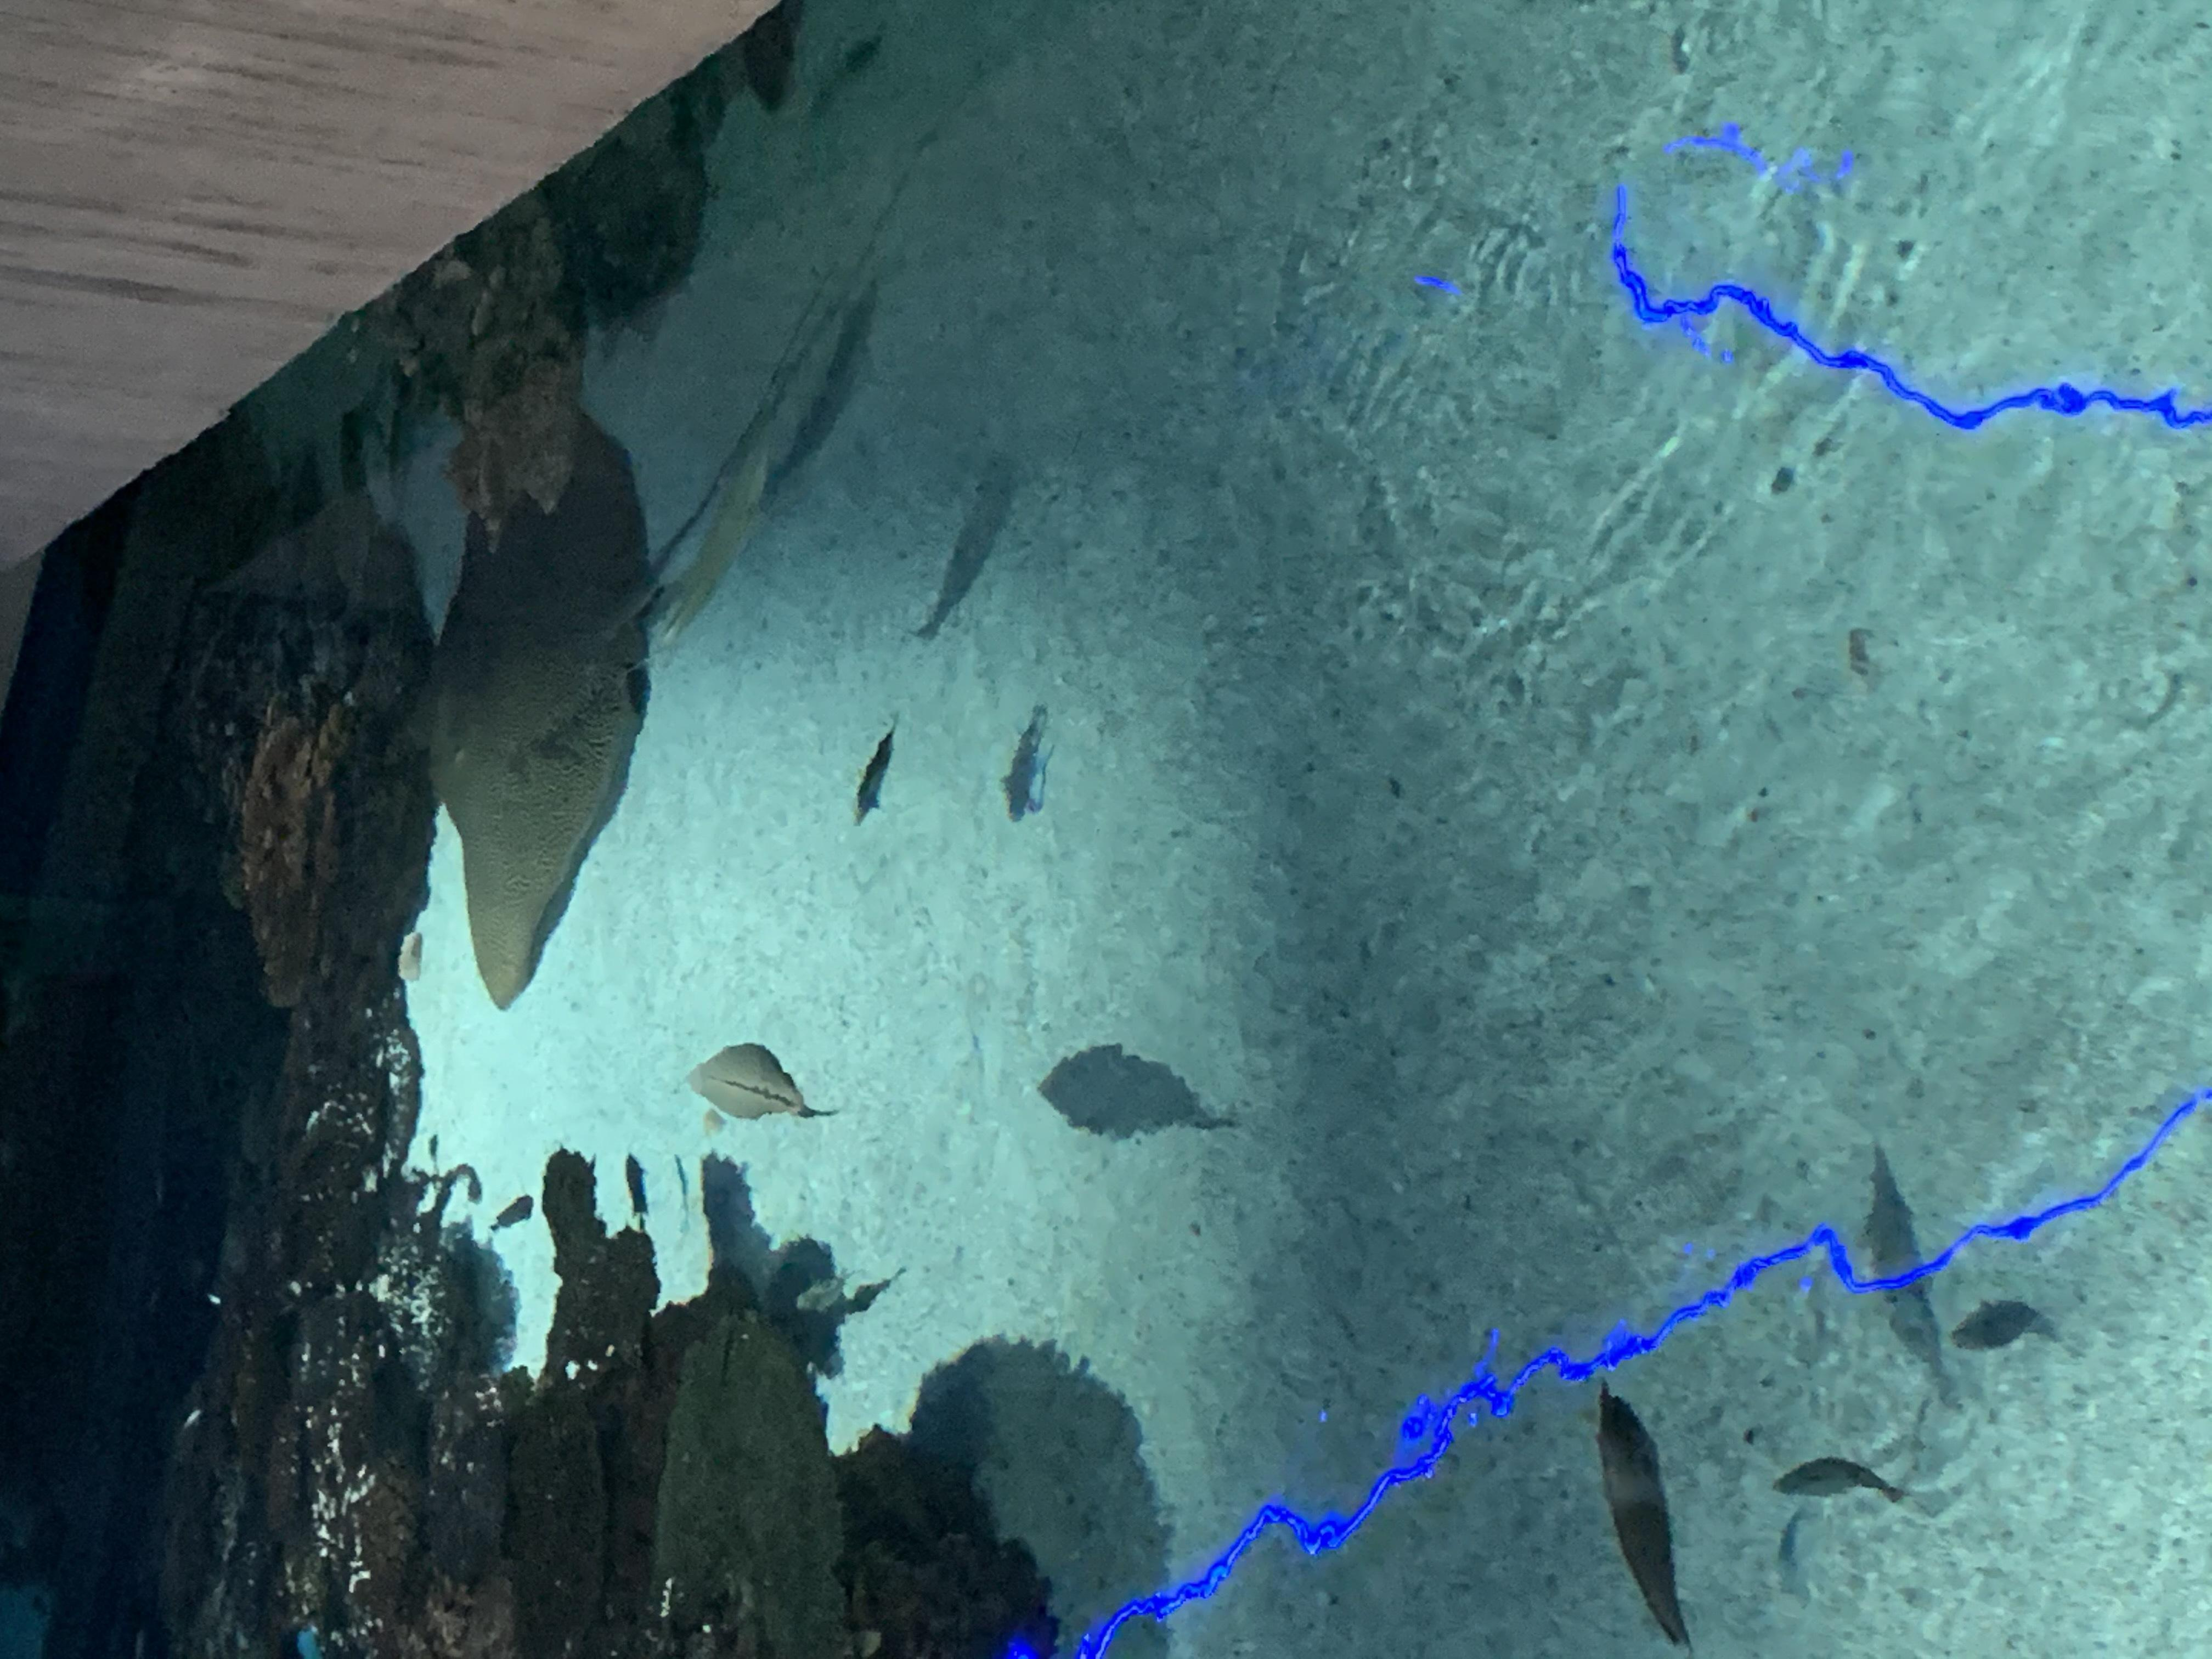fish: (1583, 1375, 1700, 1649), (683, 1042, 827, 1134), (1777, 1439, 1905, 1528), (841, 721, 902, 831), (615, 1152, 653, 1239), (489, 1190, 538, 1232)
stingray: (434, 401, 655, 1011)
